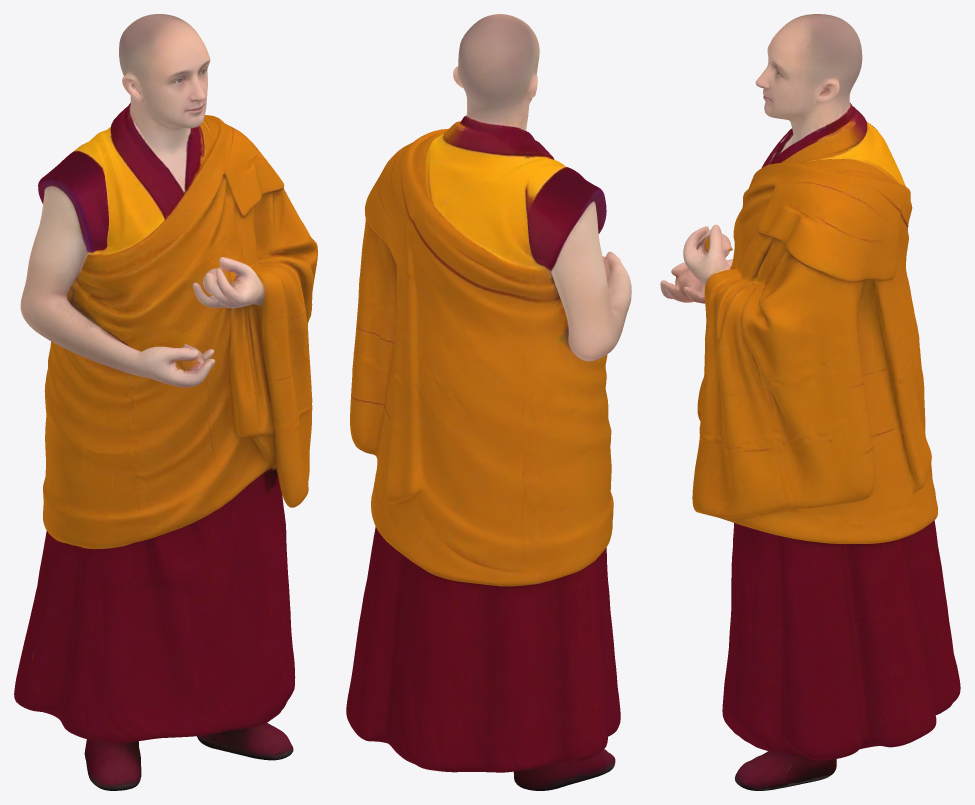
Rendered from monje.glb.
3 views of the same model, side by side, from view 1: azimuth 30°, elevation 25°; view 2: azimuth 150°, elevation 25°; view 3: azimuth 270°, elevation 25° (orthographic). The views are drawn at different scales.
Parts seen in each view (by area): view 1: Object_5; view 2: Object_5; view 3: Object_5.
Boxes of the visible parts, x1=… form: Object_5: x1=14, y1=14, x2=317, y2=790; Object_5: x1=346, y1=14, x2=631, y2=790; Object_5: x1=660, y1=14, x2=960, y2=790.
Size of the model in its own units: 0.7029 by 1.9 by 0.7092.
1 material, 1 textured.
